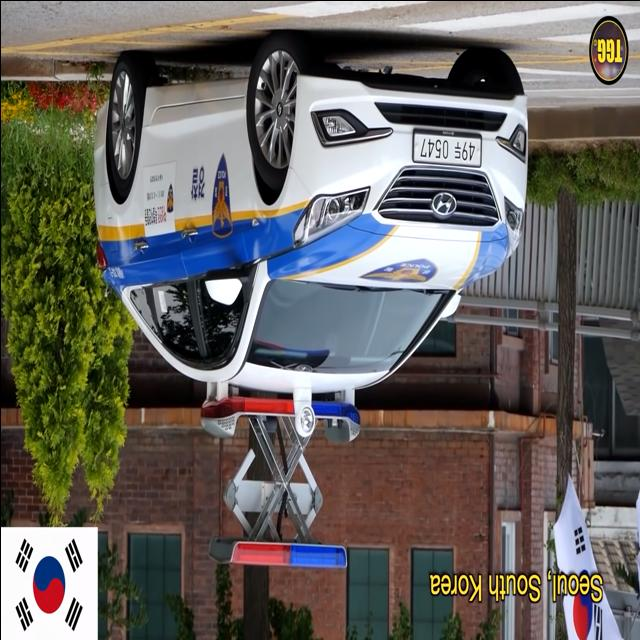emergency-vehicles: (84, 36, 554, 578)
